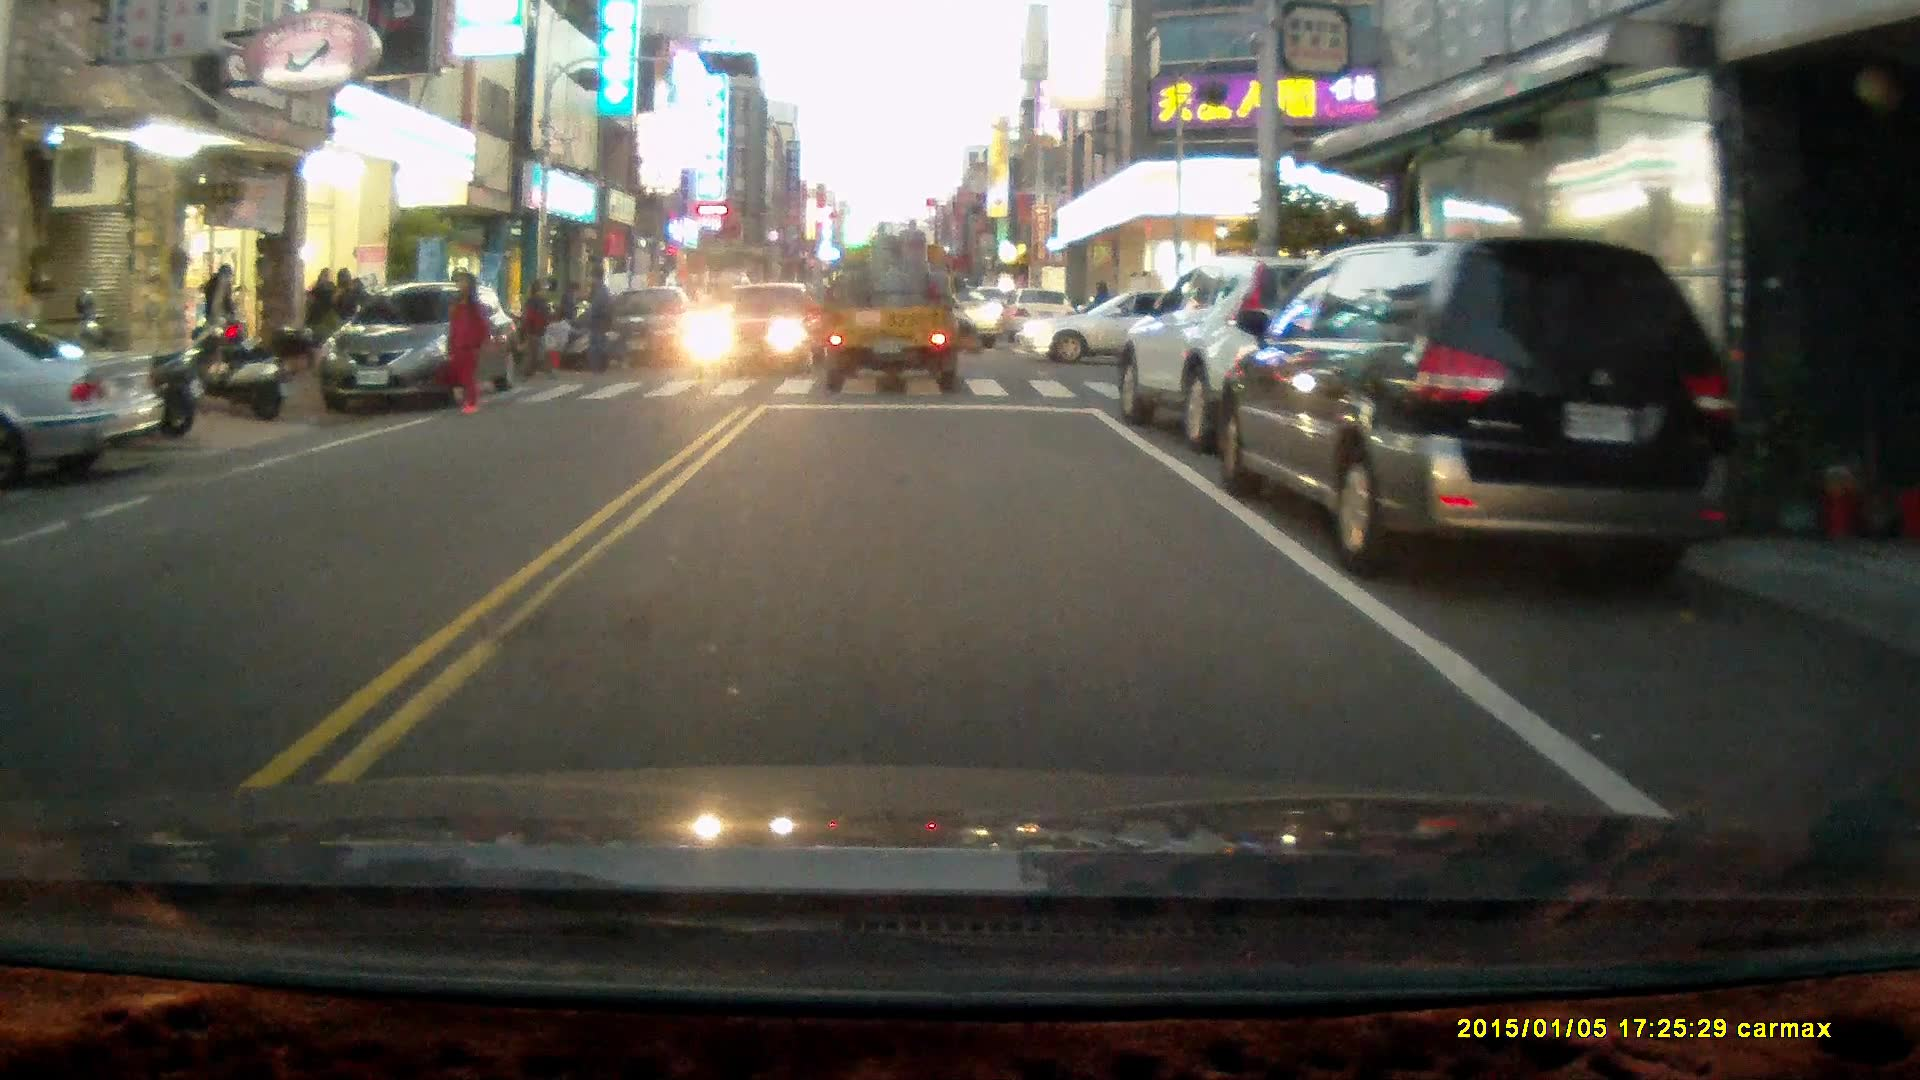pedestrian: (441, 268, 492, 416), (510, 270, 556, 386), (579, 263, 623, 377), (199, 264, 241, 365), (545, 308, 576, 372)
rider: (948, 265, 986, 355)
vehicle: (1220, 236, 1746, 583), (1114, 253, 1437, 458), (818, 222, 970, 396), (320, 284, 519, 417), (1, 319, 162, 480), (1018, 288, 1242, 366), (689, 283, 821, 373), (585, 290, 704, 376)
